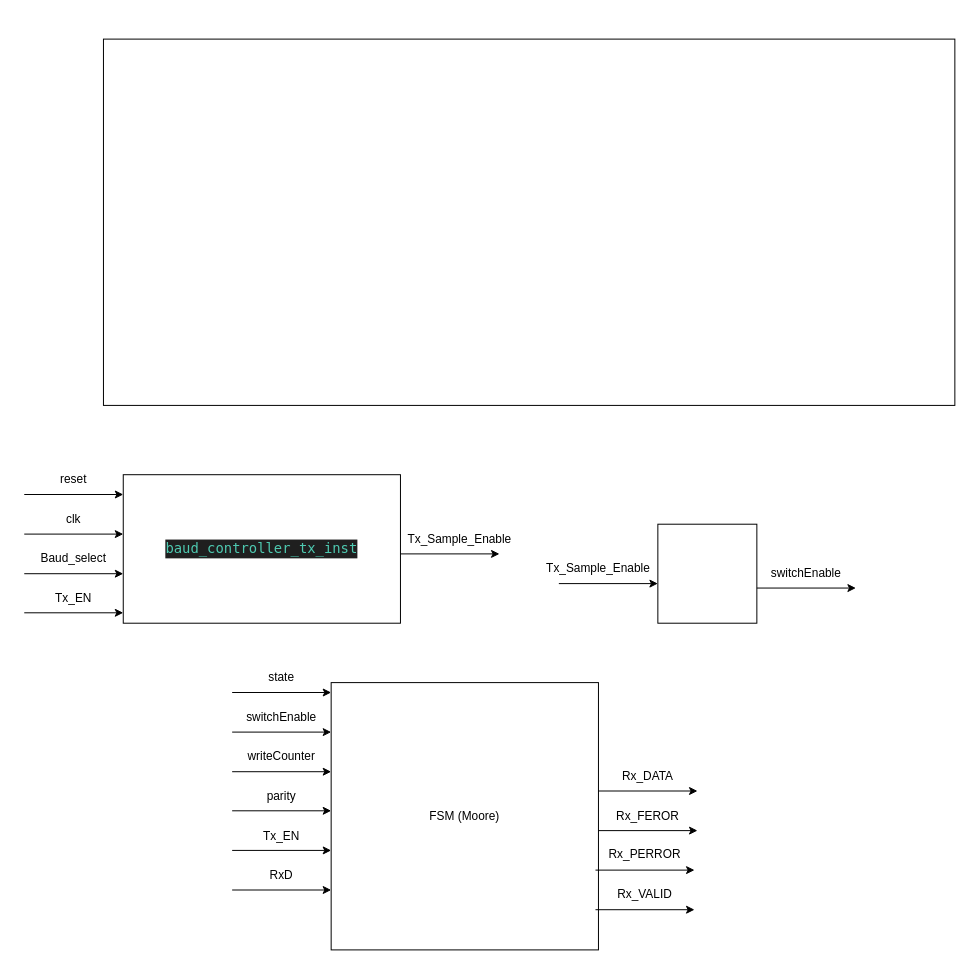
This 972x967 diagram has some shape labels left out. Each missing label, with the box of its shape:
enableCounter: (657, 523, 757, 623)
uart_receiver: (102, 38, 955, 405)
